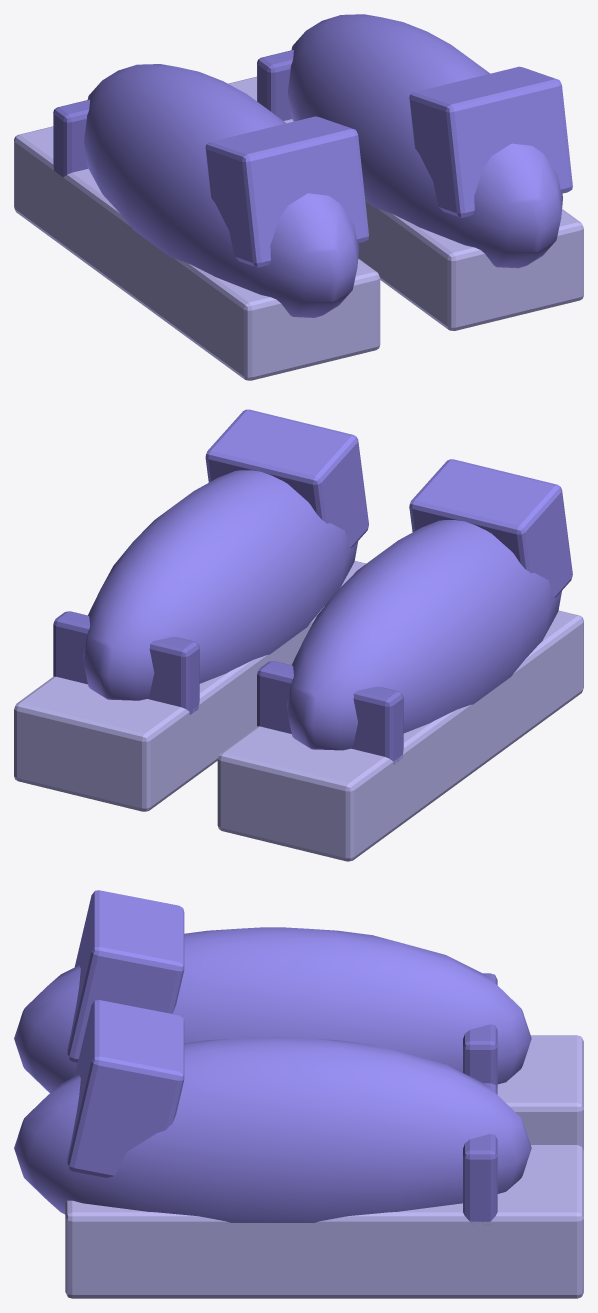
File: VM-CAL-EXT90.glb
3 views of the same model, one above another, from view 1: azimuth 30°, elevation 25°; view 2: azimuth 150°, elevation 25°; view 3: azimuth 270°, elevation 25° (orthographic). The views are drawn at different scales.
Parts seen in each view (by area): view 1: Puma Future Rider Zapatillas; view 2: Puma Future Rider Zapatillas; view 3: Puma Future Rider Zapatillas.
Part boxes in pixels (x1,y1,x2,y2): Puma Future Rider Zapatillas: (14,14,583,380); Puma Future Rider Zapatillas: (14,409,583,861); Puma Future Rider Zapatillas: (14,890,583,1298).
Bounding box in the file's own units: 0.26 × 0.1519 × 0.3317.
